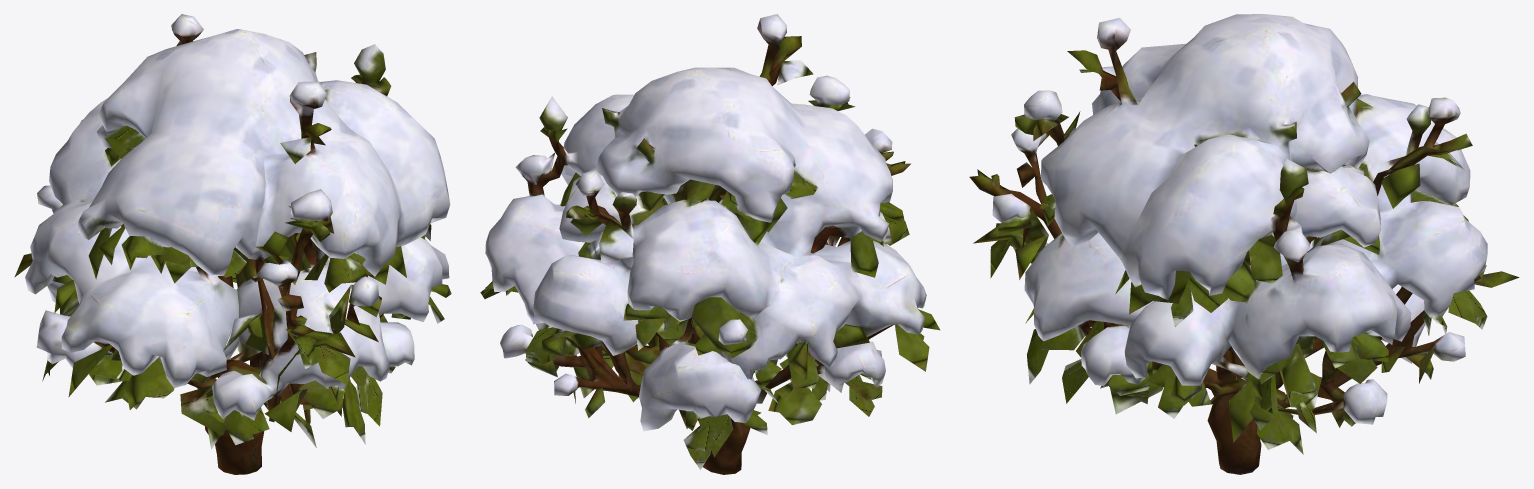
The model's file is PL_snowbush.glb.
The picture shows the model from 3 angles, left to right: view 1: azimuth 30°, elevation 25°; view 2: azimuth 150°, elevation 25°; view 3: azimuth 270°, elevation 25°; orthographic projection. The views are drawn at different scales.
Bounding box in the file's own units: 0.8374 × 0.8589 × 0.9565.
Materials: 1 (1 with a texture image).
